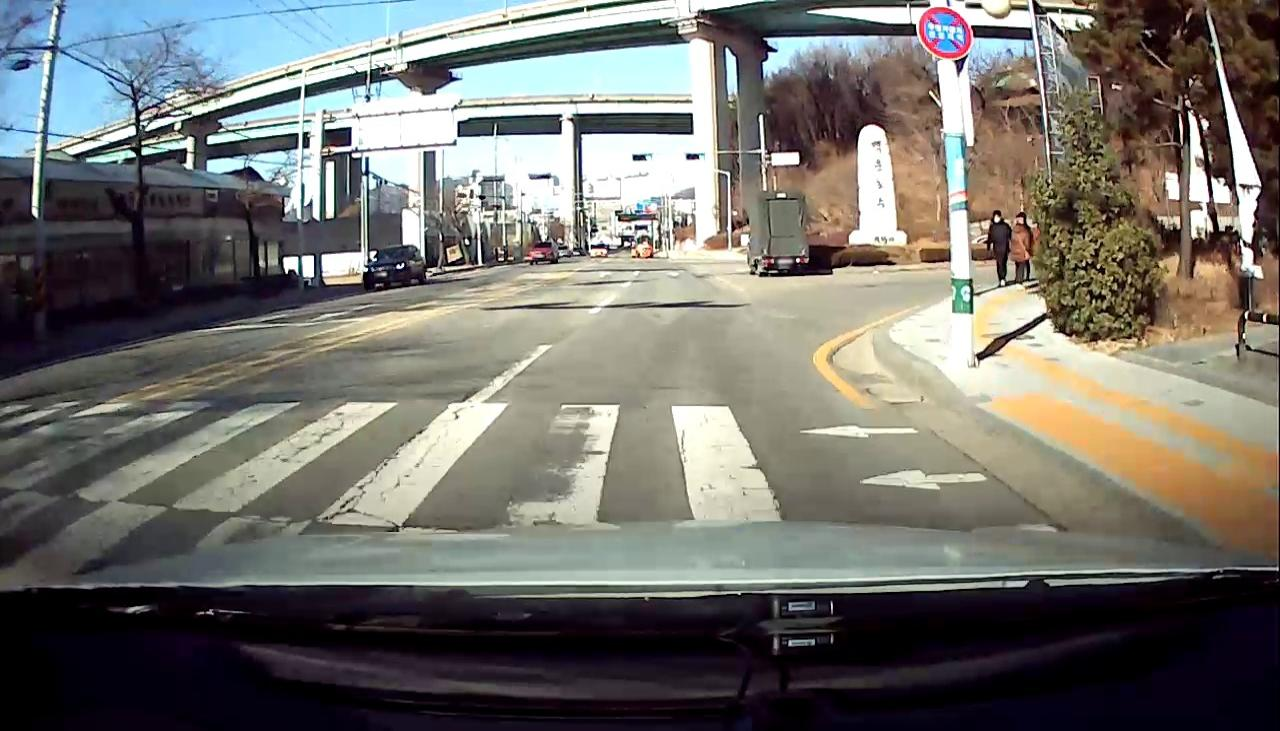Green Light: (698, 153, 706, 161), (645, 154, 653, 161)
